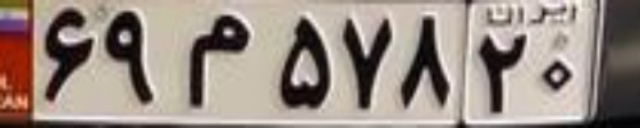0: (537, 57, 577, 92)
2: (475, 30, 530, 114)
5: (277, 15, 334, 109)
6: (37, 7, 97, 102)
7: (341, 15, 392, 110)
8: (398, 14, 452, 108)
9: (103, 8, 155, 104)
mim: (186, 13, 251, 109)
